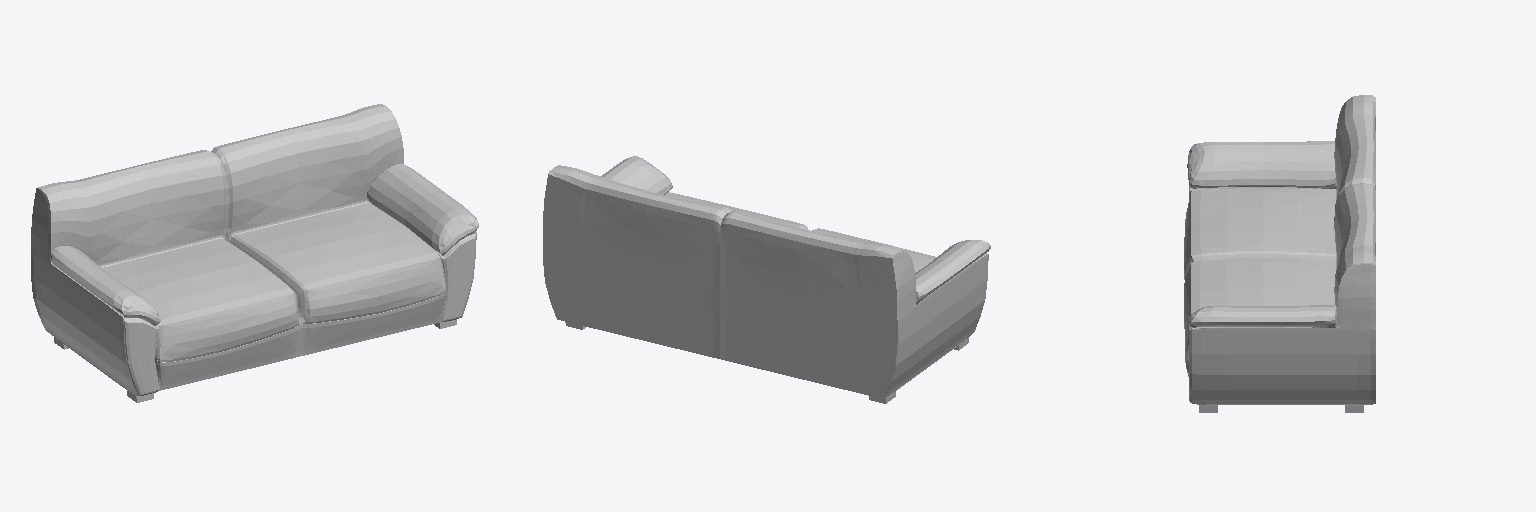
The model's file is IKEA-Vreta_3_Seat_Sofa_Mjuk_Ivory-3D.obj.
3 renders of one model, left to right at view 1: azimuth 30°, elevation 25°; view 2: azimuth 150°, elevation 25°; view 3: azimuth 270°, elevation 25°, orthographic.
Parts seen in each view (by area): view 1: Object01; view 2: Object01; view 3: Object01.
Boxes of the visible parts, box(x1,y1,x2,y2) form: Object01: box(31, 104, 478, 402); Object01: box(543, 156, 990, 403); Object01: box(1184, 95, 1375, 412).
Size of the model in its own units: 2175 by 895 by 998.